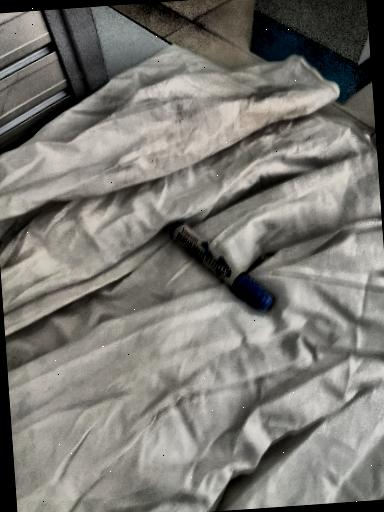marcador azul: (170, 222, 272, 308)
